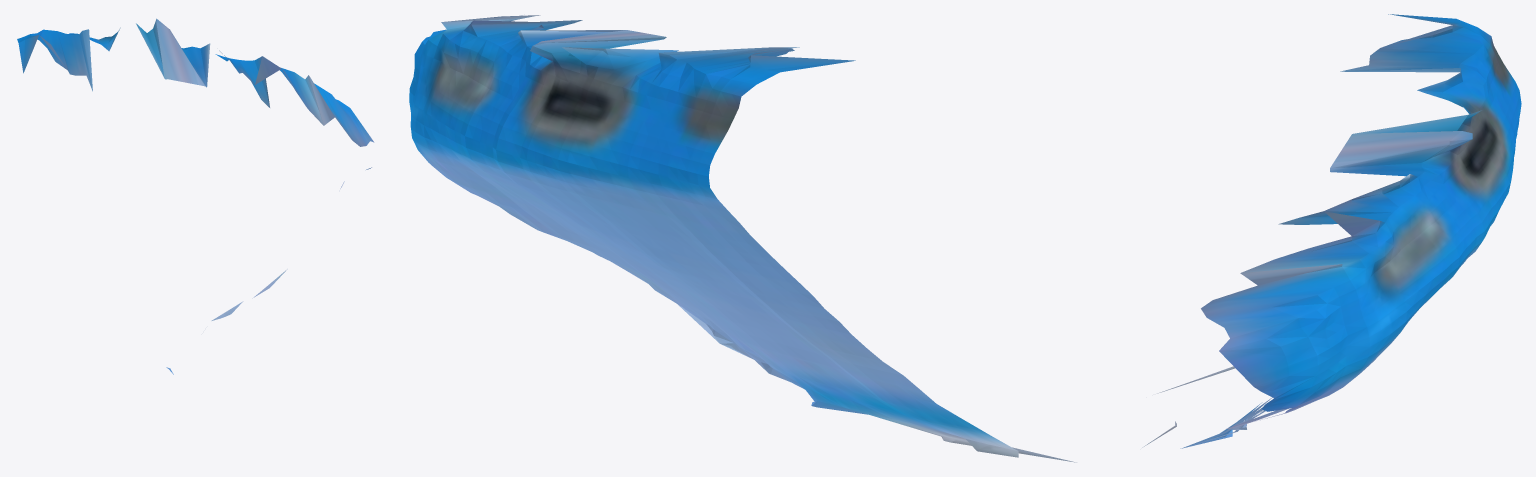
Rendered from observed-surface.glb.
The picture shows the model from 3 angles, left to right: view 1: azimuth 30°, elevation 25°; view 2: azimuth 150°, elevation 25°; view 3: azimuth 270°, elevation 25°; orthographic projection. The views are drawn at different scales.
Parts seen in each view (by area): view 1: geometry_0; view 2: geometry_0; view 3: geometry_0.
Part boxes in pixels (<box>): geometry_0: <box>17,18,374,374</box>; geometry_0: <box>409,15,1076,462</box>; geometry_0: <box>1142,14,1521,448</box>.
Bounding box in the file's own units: 0.506 × 0.4504 × 0.3912.
Materials: 1 (1 with a texture image).
